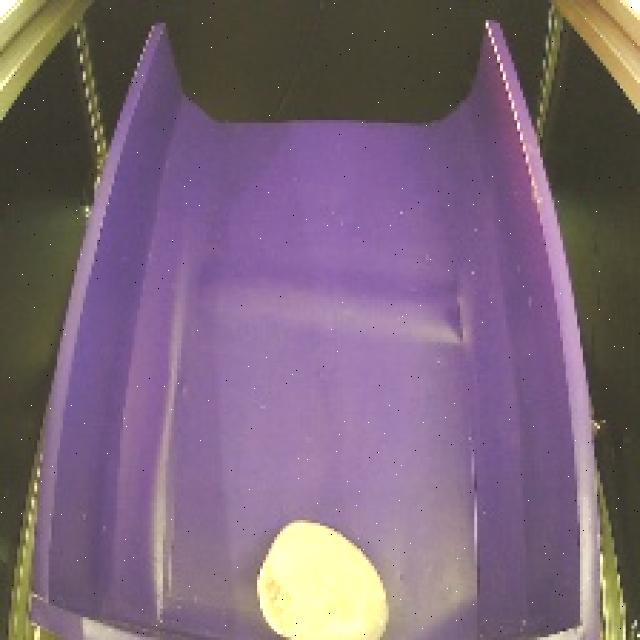cobbles: (240, 505, 397, 640)
